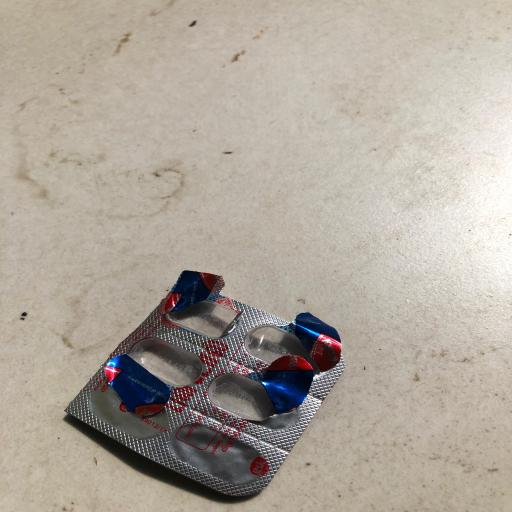waste: (59, 248, 361, 508)
